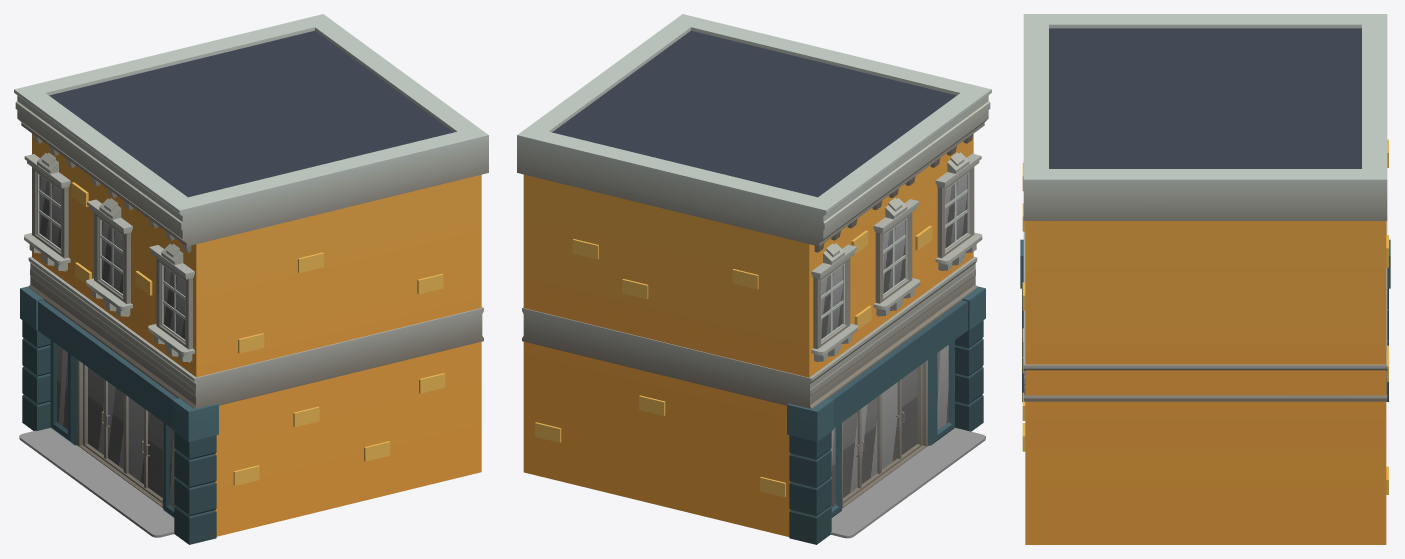
File: Building_21_4_B.fbx
The picture shows the model from 3 angles, left to right: view 1: azimuth 30°, elevation 25°; view 2: azimuth 150°, elevation 25°; view 3: azimuth 270°, elevation 25°; orthographic projection. The views are drawn at different scales.
Visible parts, largest first — view 1: Building_21_4_B; view 2: Building_21_4_B; view 3: Building_21_4_B.
Boxes of the visible parts, box(x1,y1,x2,y2) form: Building_21_4_B: box(14, 14, 488, 544); Building_21_4_B: box(517, 14, 991, 544); Building_21_4_B: box(1020, 14, 1390, 544).
Size of the model in its own units: 779 by 782 by 713.
